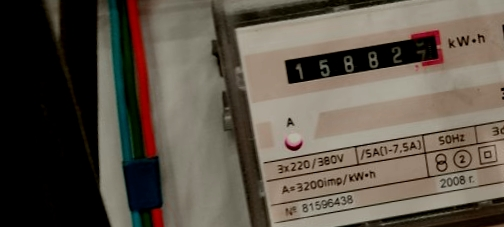1: (291, 60, 306, 80)
2: (389, 43, 403, 64)
5: (316, 56, 331, 77)
7: (415, 47, 427, 62)
8: (340, 51, 355, 74), (365, 48, 380, 70)
screen: (274, 22, 454, 93)
